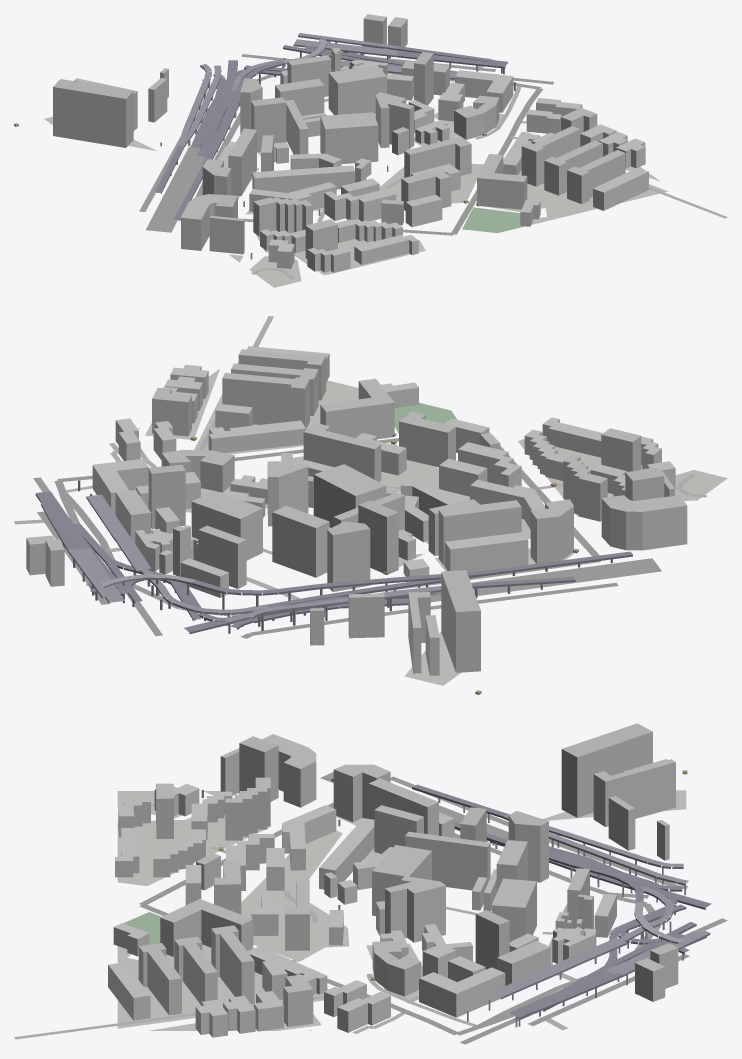
3 renders of one model, top to bottom at view 1: azimuth 30°, elevation 25°; view 2: azimuth 150°, elevation 25°; view 3: azimuth 270°, elevation 25°, orthographic. The views are drawn at different scales.
Size of the model in its own units: 575 by 61.21 by 628.
